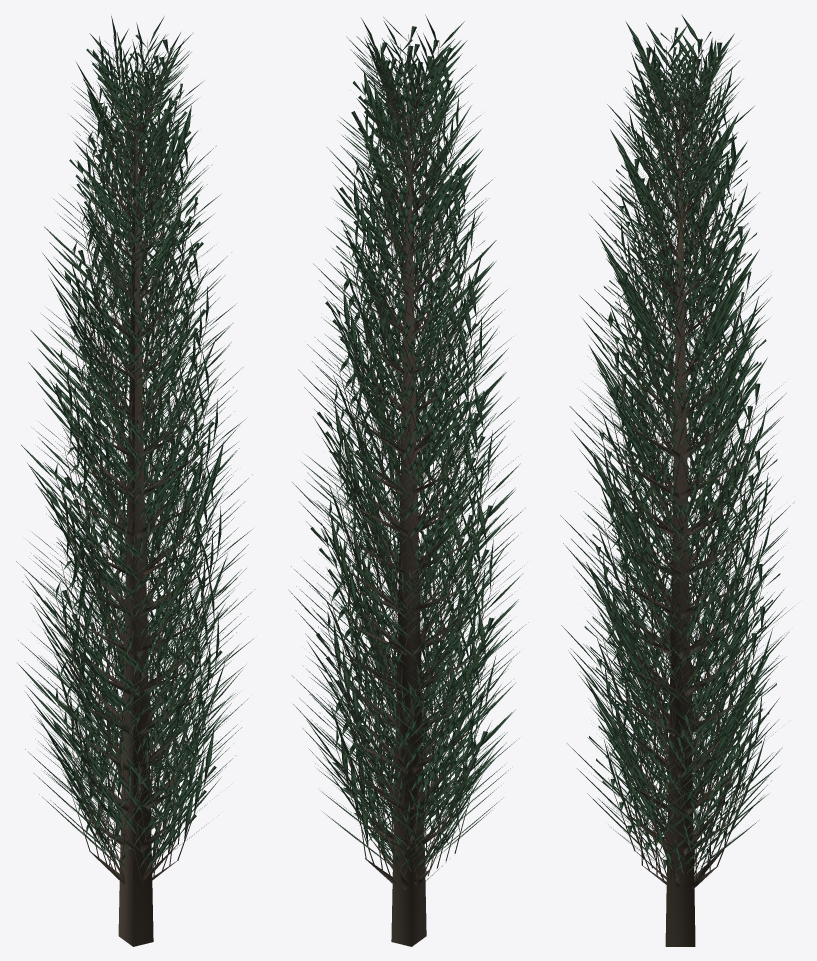
Rendered from columnar-evergreen.glb.
3 renders of one model, left to right at view 1: azimuth 30°, elevation 25°; view 2: azimuth 150°, elevation 25°; view 3: azimuth 270°, elevation 25°, orthographic.
Visible parts, largest first — view 1: Closed conifer needle sprays, Evergreen connected main bough; view 2: Closed conifer needle sprays, Evergreen connected main bough; view 3: Closed conifer needle sprays, Evergreen connected main bough.
Boxes of the visible parts, box(x1,y1,x2,y2) form: Closed conifer needle sprays: box(16, 16, 254, 871); Evergreen connected main bough: box(52, 41, 220, 946); Closed conifer needle sprays: box(289, 14, 528, 871); Evergreen connected main bough: box(324, 34, 494, 946); Closed conifer needle sprays: box(560, 14, 797, 874); Evergreen connected main bough: box(595, 36, 765, 946).
Size of the model in its own units: 2.93 by 12 by 2.93.
Materials: 2 (2 with a texture image).
